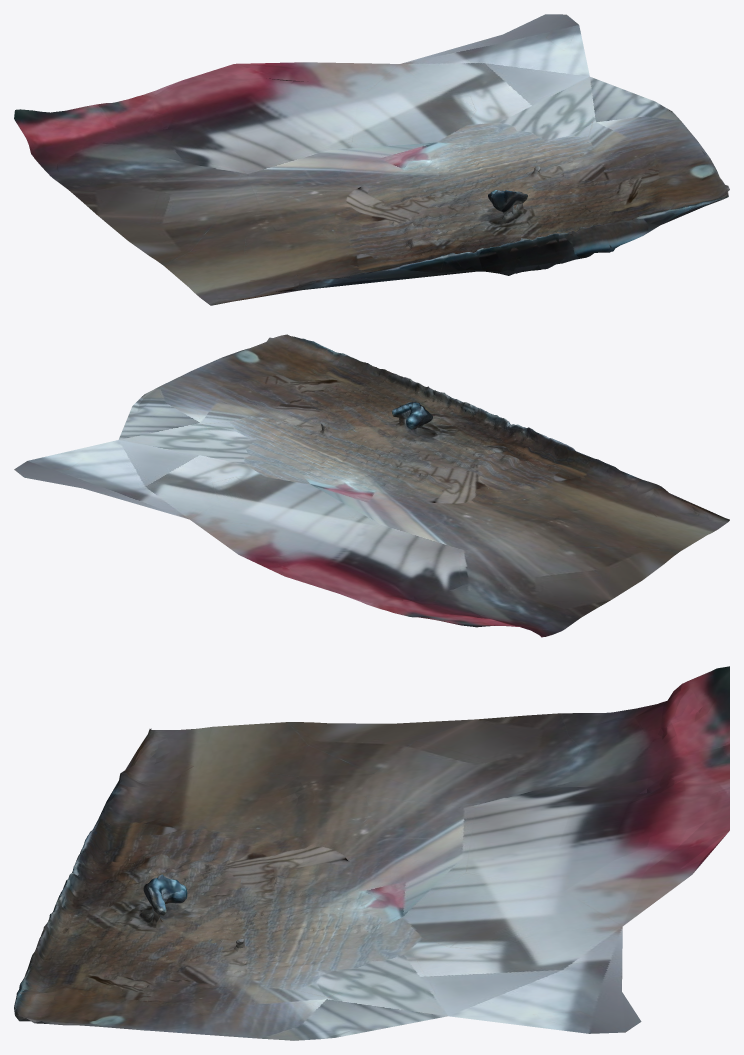
3 renders of one model, top to bottom at view 1: azimuth 30°, elevation 25°; view 2: azimuth 150°, elevation 25°; view 3: azimuth 270°, elevation 25°, orthographic. The views are drawn at different scales.
Size of the model in its own units: 0.716 by 0.074 by 0.5937.
Materials: 1 (1 with a texture image).
